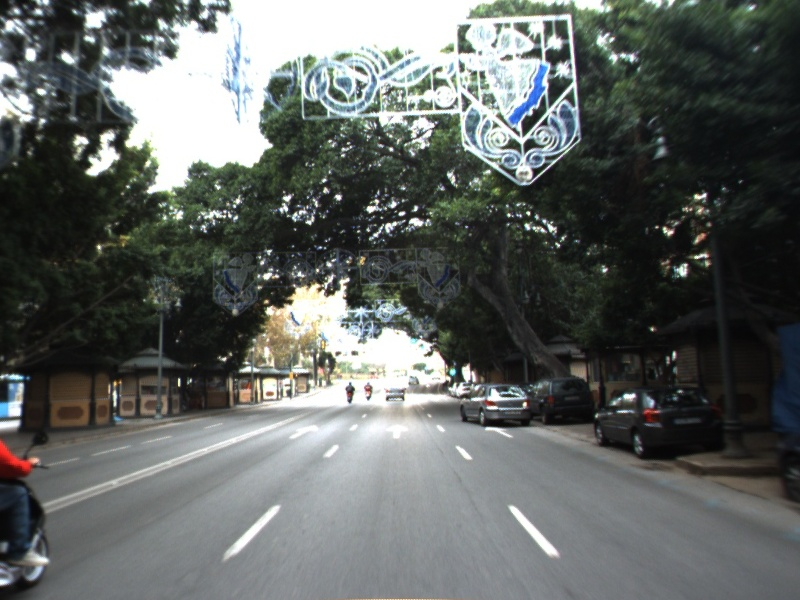STRAIGHT: (286, 422, 321, 441), (383, 422, 413, 440), (483, 424, 516, 440)
